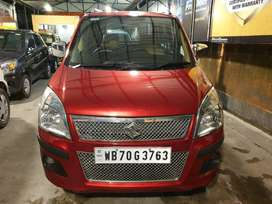WB70G3763: (94, 146, 171, 163)
